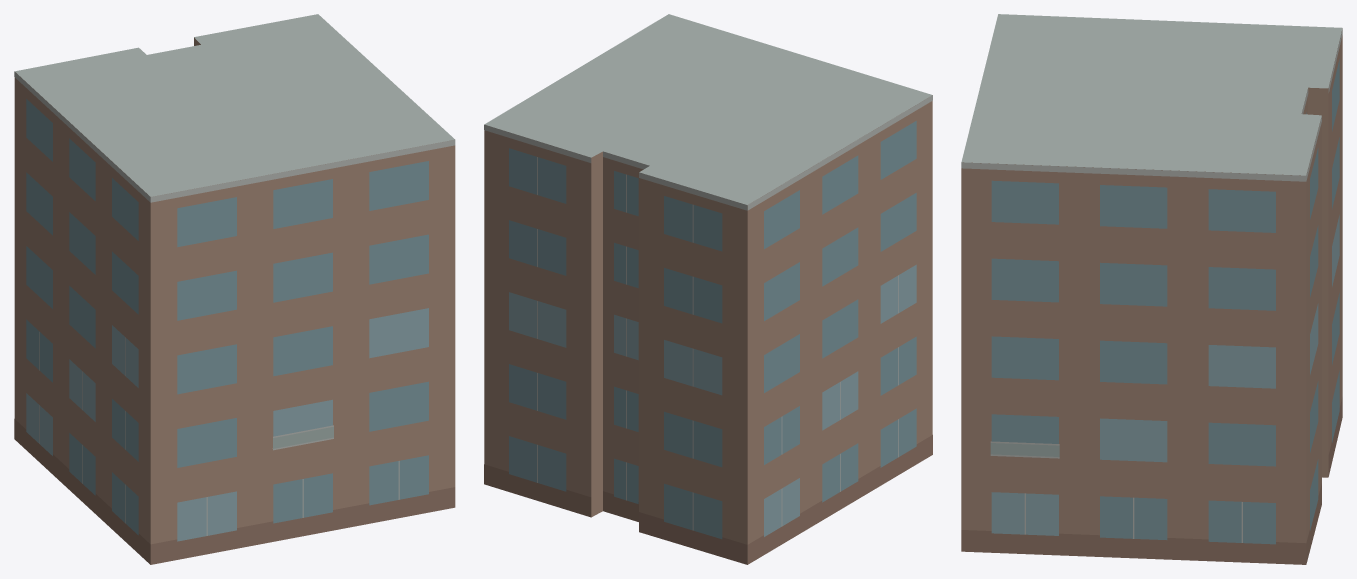
The model's file is survey-upis-32808999.glb.
The picture shows the model from 3 angles, left to right: view 1: azimuth 30°, elevation 25°; view 2: azimuth 150°, elevation 25°; view 3: azimuth 270°, elevation 25°; orthographic projection. The views are drawn at different scales.
Parts seen in each view (by area): view 1: survey-upis-32808999.tmp; view 2: survey-upis-32808999.tmp; view 3: survey-upis-32808999.tmp.
Boxes of the visible parts, <box> form: survey-upis-32808999.tmp: <box>14,14,455,564</box>; survey-upis-32808999.tmp: <box>484,14,932,564</box>; survey-upis-32808999.tmp: <box>961,14,1342,564</box>.
Bounding box in the file's own units: 13.9 × 15.6 × 13.86.
